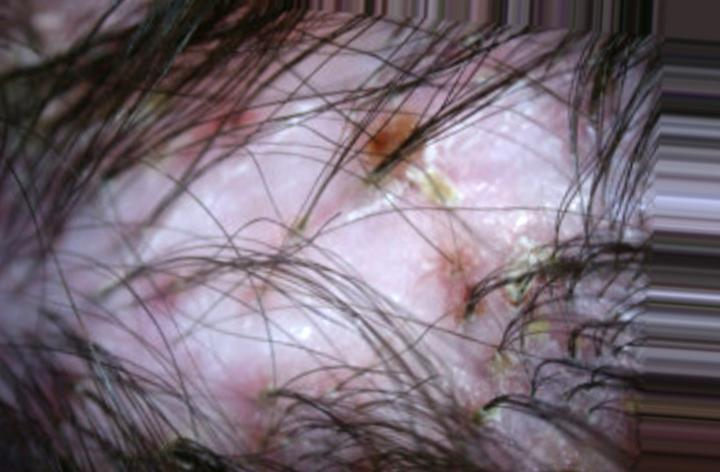Folliculitis: (183, 48, 562, 371)
